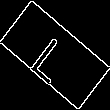L_NE: (29, 26, 81, 84)
